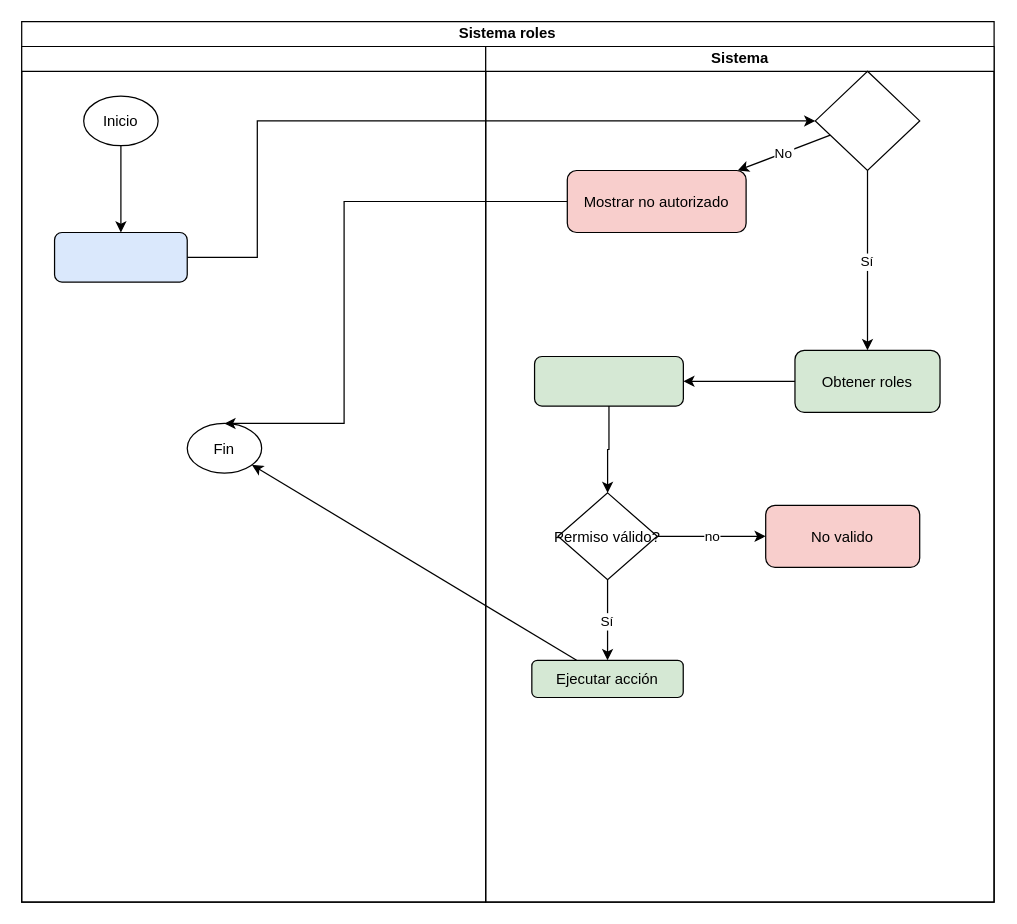
This 1017x924 diagram has some shape labels left out. Here are the shapes that lost their labels. From the top down, the box of each, then its label:
(814, 70, 920, 170): Validar autenticación
(53, 231, 187, 282): Intentar acción
(533, 355, 683, 406): Construir permisos
(20, 45, 486, 902): Usuario
